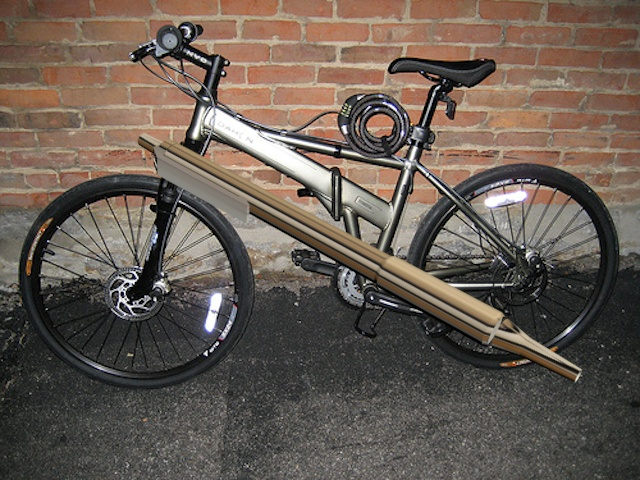pen: (129, 128, 592, 385)
